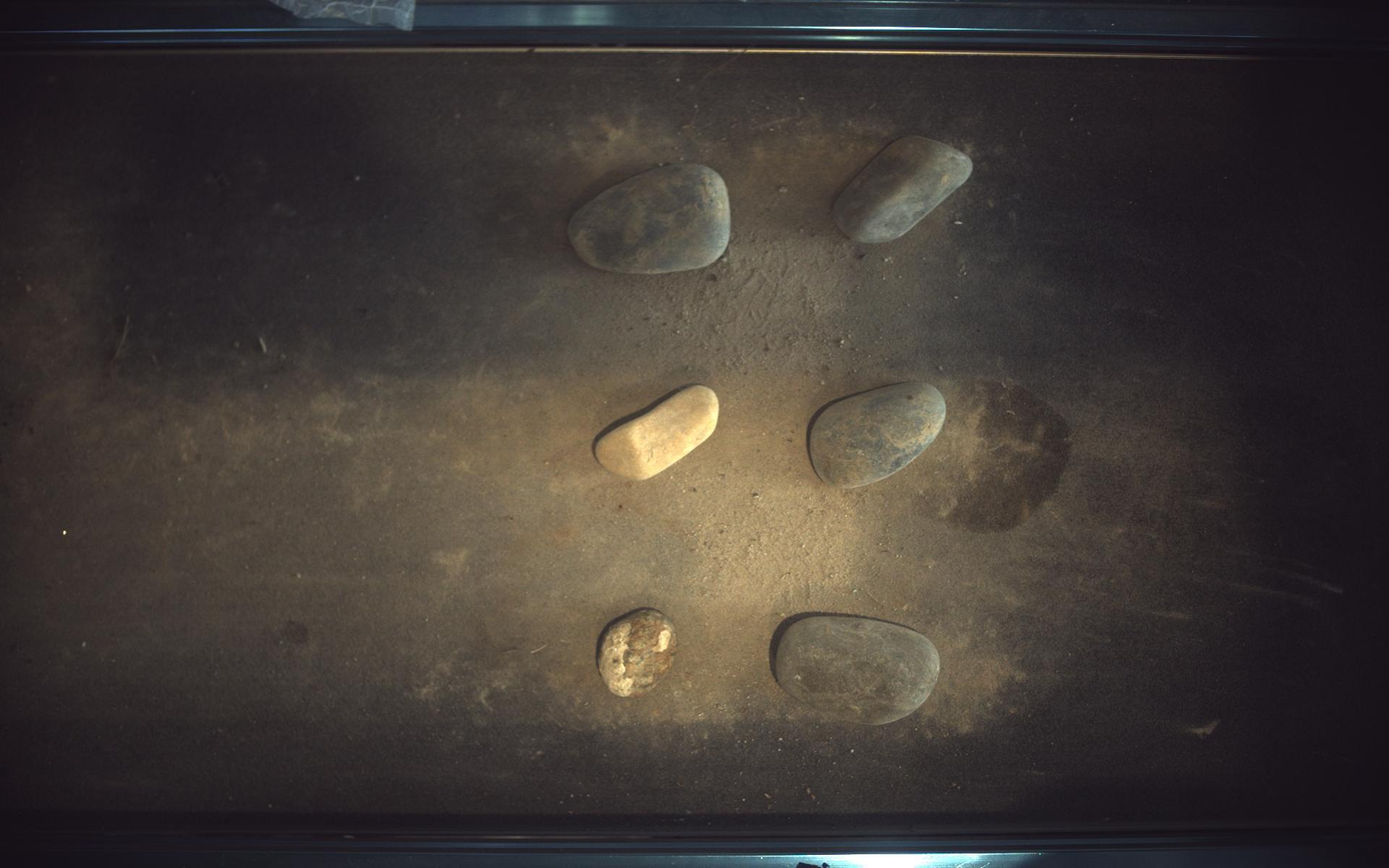stone: (777, 617, 942, 726), (570, 162, 731, 273), (835, 135, 974, 242), (811, 381, 948, 488), (595, 386, 721, 480), (599, 610, 677, 698)
